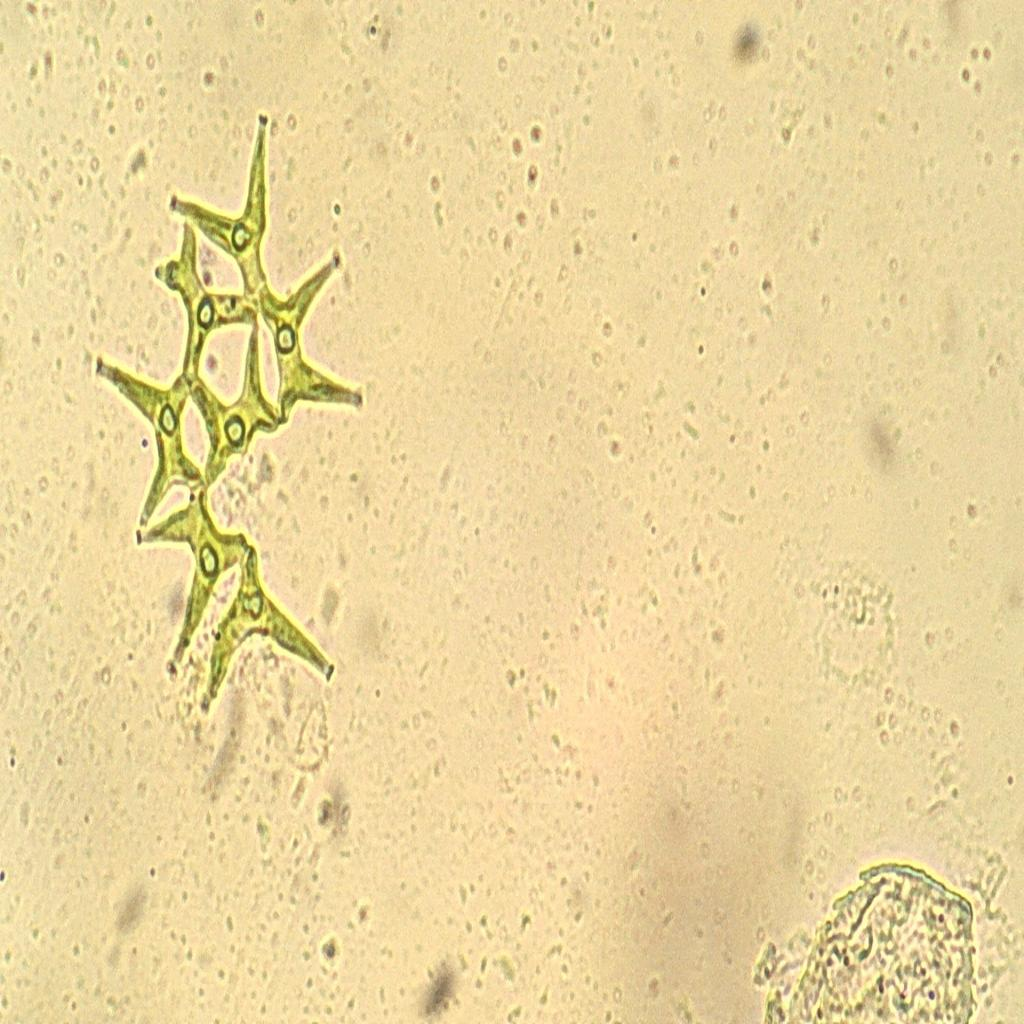Pediastrum_CFI: (84, 100, 378, 737)
